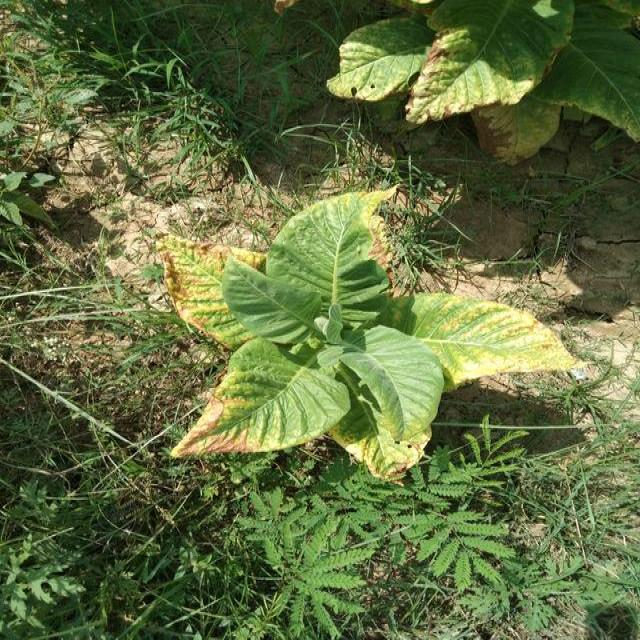crop: (154, 190, 574, 476)
